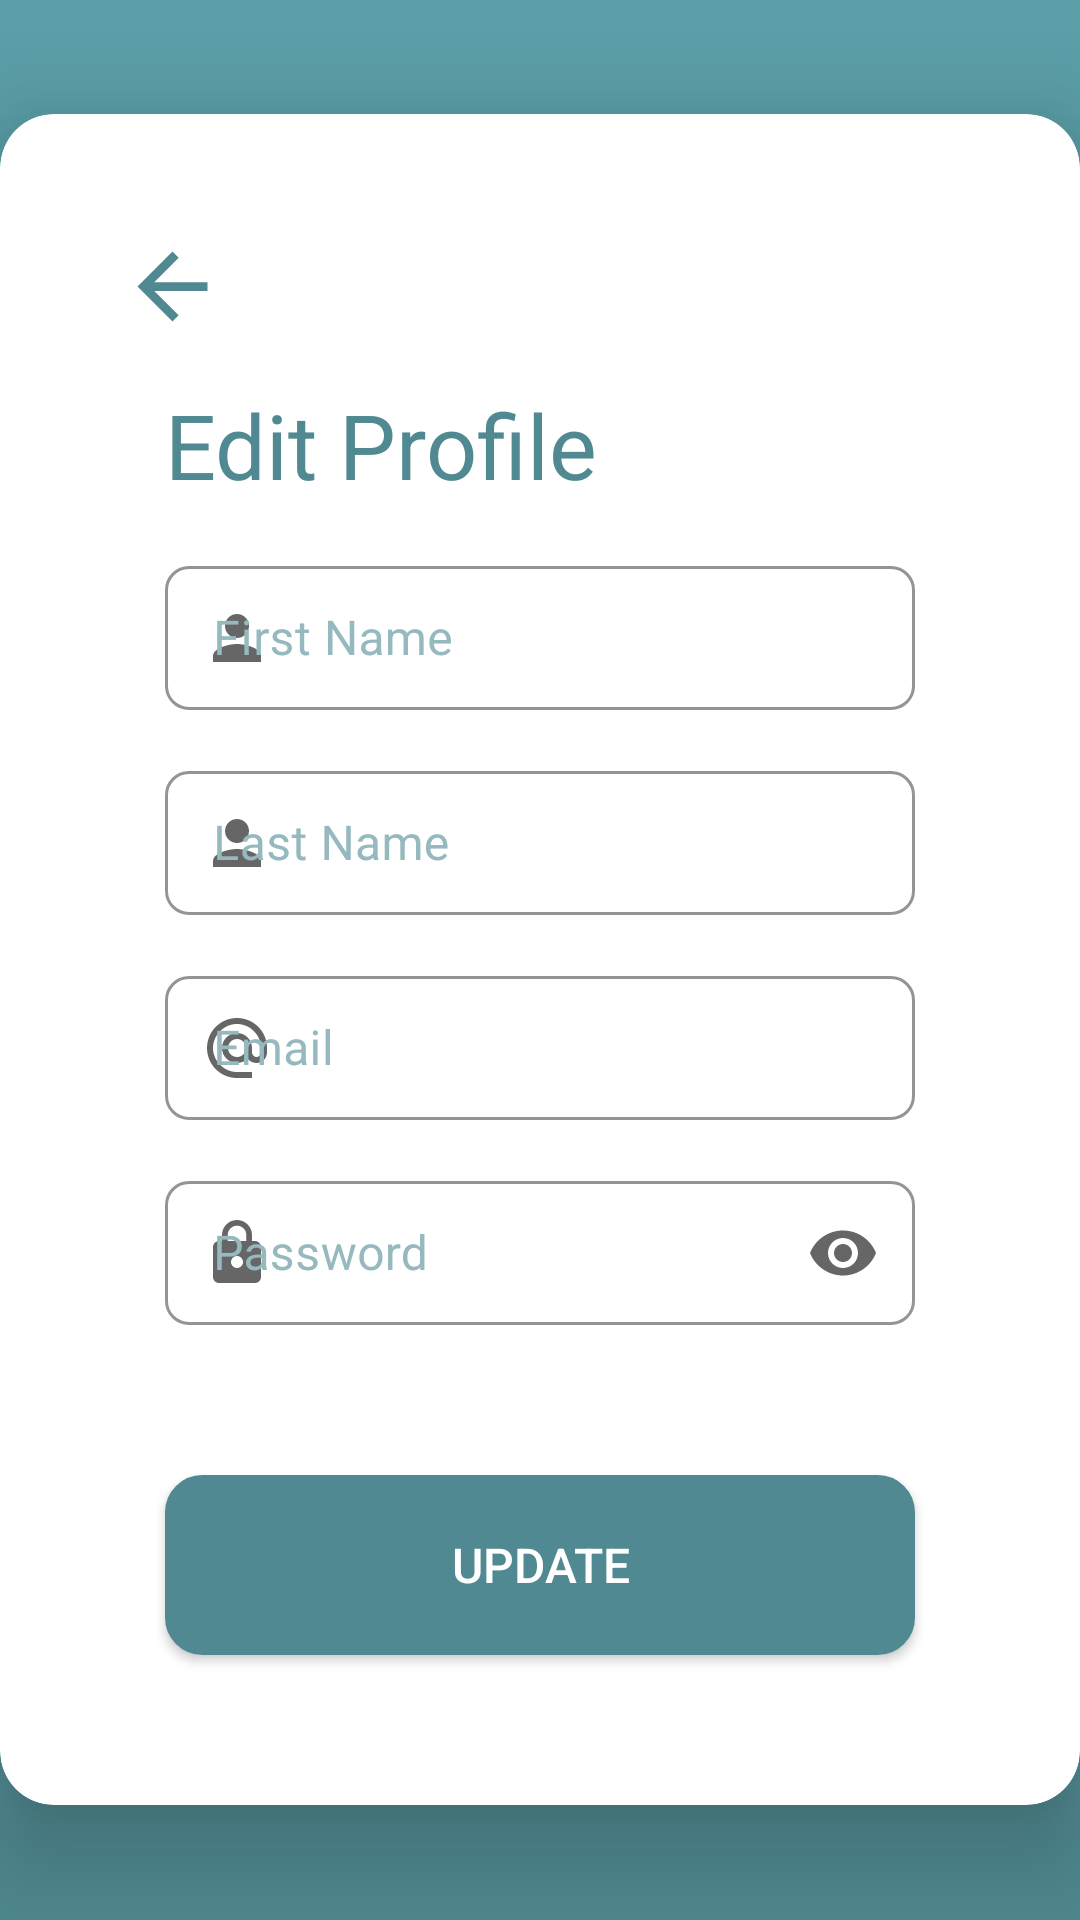

Icon bounding boxes for this 1080 x 1920 phone screenshot, format (x1, y1, x2, y2):
back: (137, 251, 208, 322)
